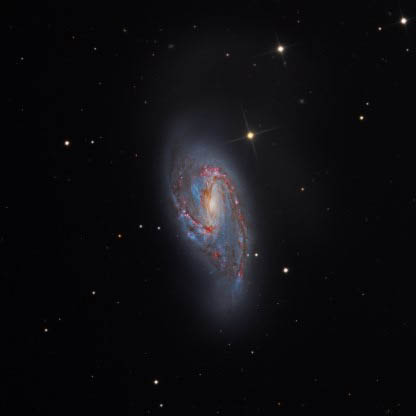Messier 66: (144, 118, 291, 318)
